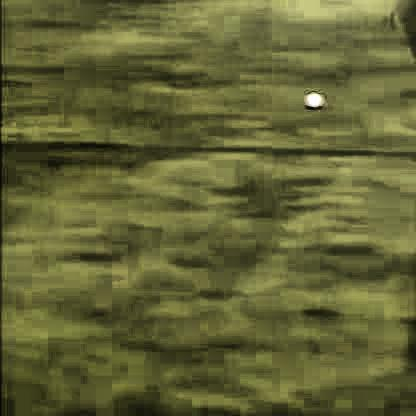golfball: (302, 90, 321, 108)
